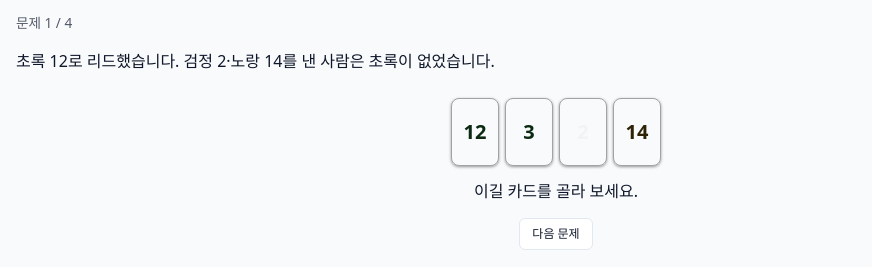
Test: TrickQuiz › 문제 0 의 정답은 검정 2
Click the button named "검정 2".
click(583, 132)  # box x1=559 y1=98 x2=607 y2=166
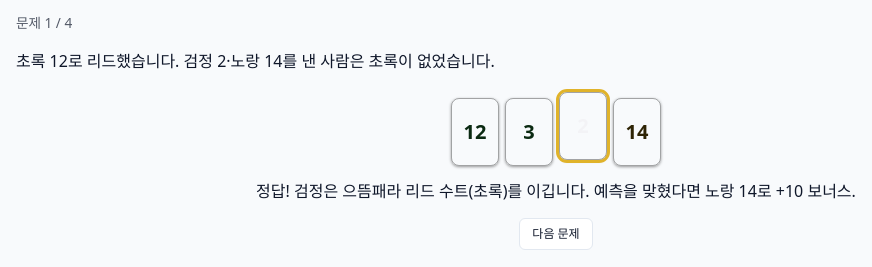
Now the message shows "정답!", box x1=256 y1=180 x2=856 y2=202
